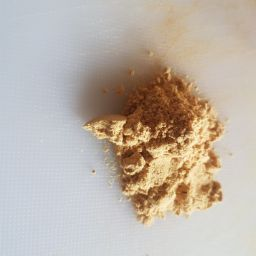Ginger powder: (74, 88, 231, 217), (88, 115, 237, 231), (81, 112, 235, 195), (128, 45, 207, 164)
